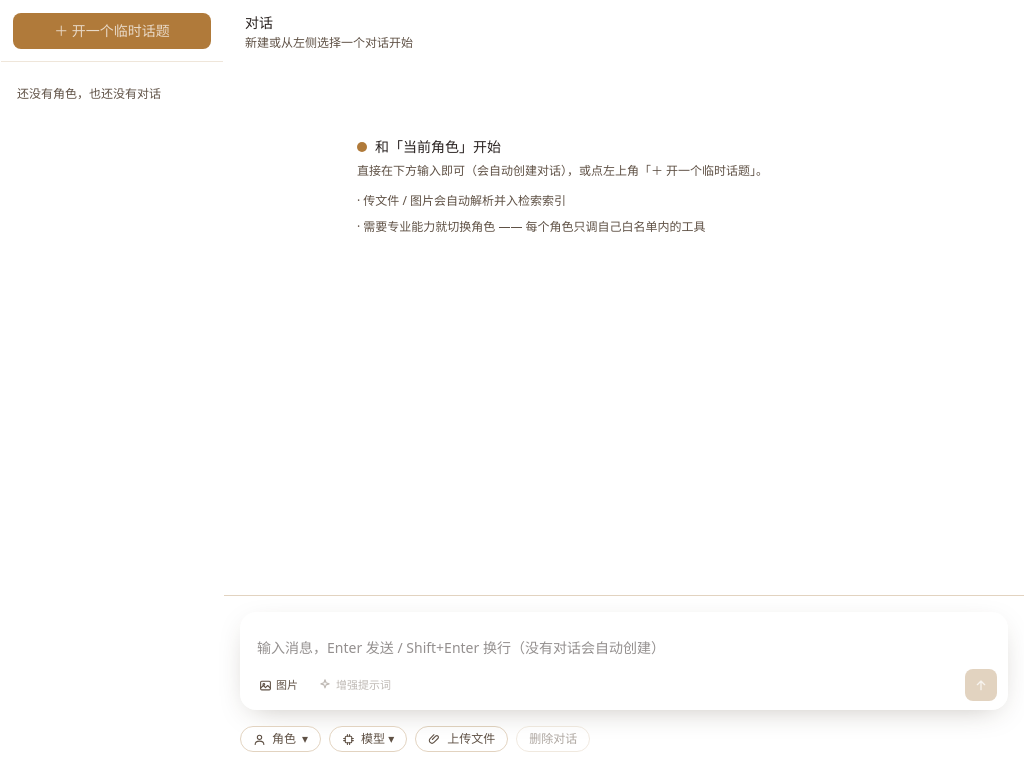
it: ChatPage 流式渲染 › 回放里带 stopped 标记的那条回答，刷新后仍显示『被叫停』（R26-13 尾）
In the text box with placeholder "输入消息，Enter 发送 / Shift+Enter 换行（没有对话会自动创建）": (624, 644) [241,625,1007,664], type "讲个长故事"
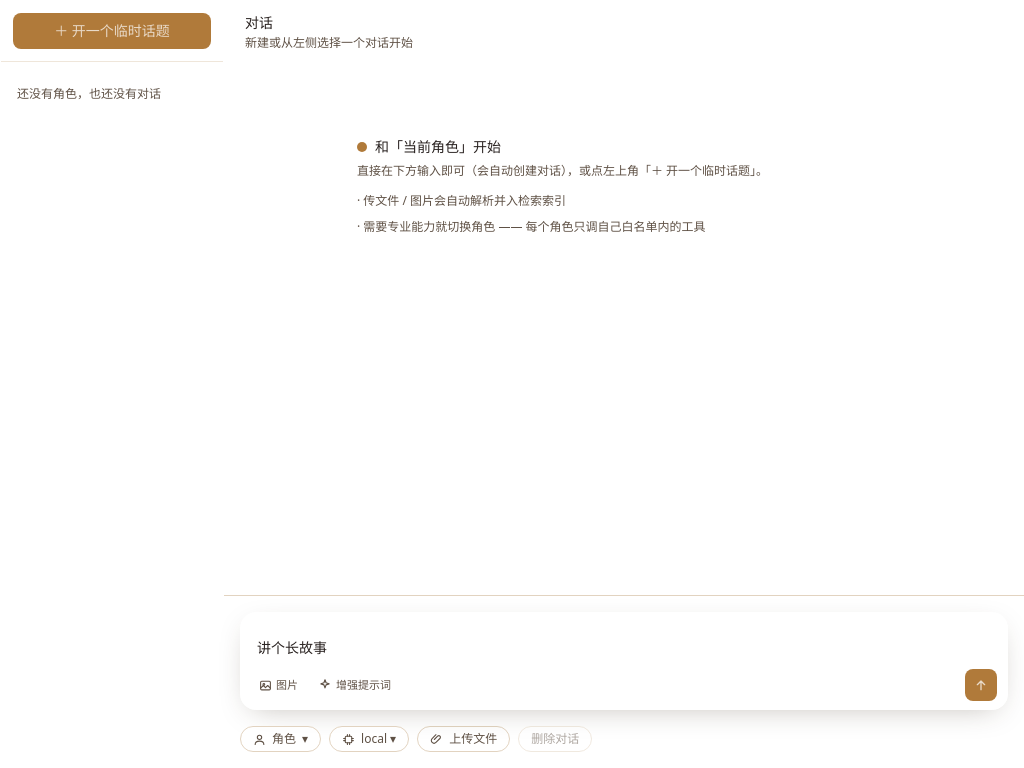
Click the button named "发送": (981, 685) [965,669,997,701]
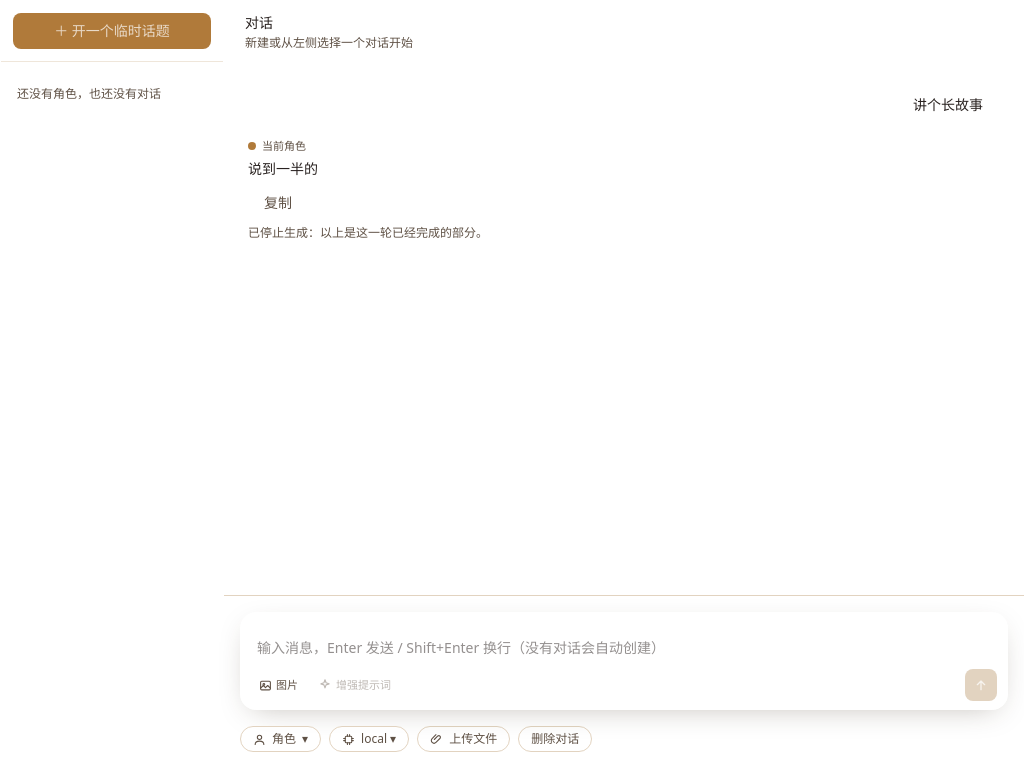
Check: the text "已停止生成：以上是这一轮已经完成的部分。" is shown once, box [248,224,488,241]
